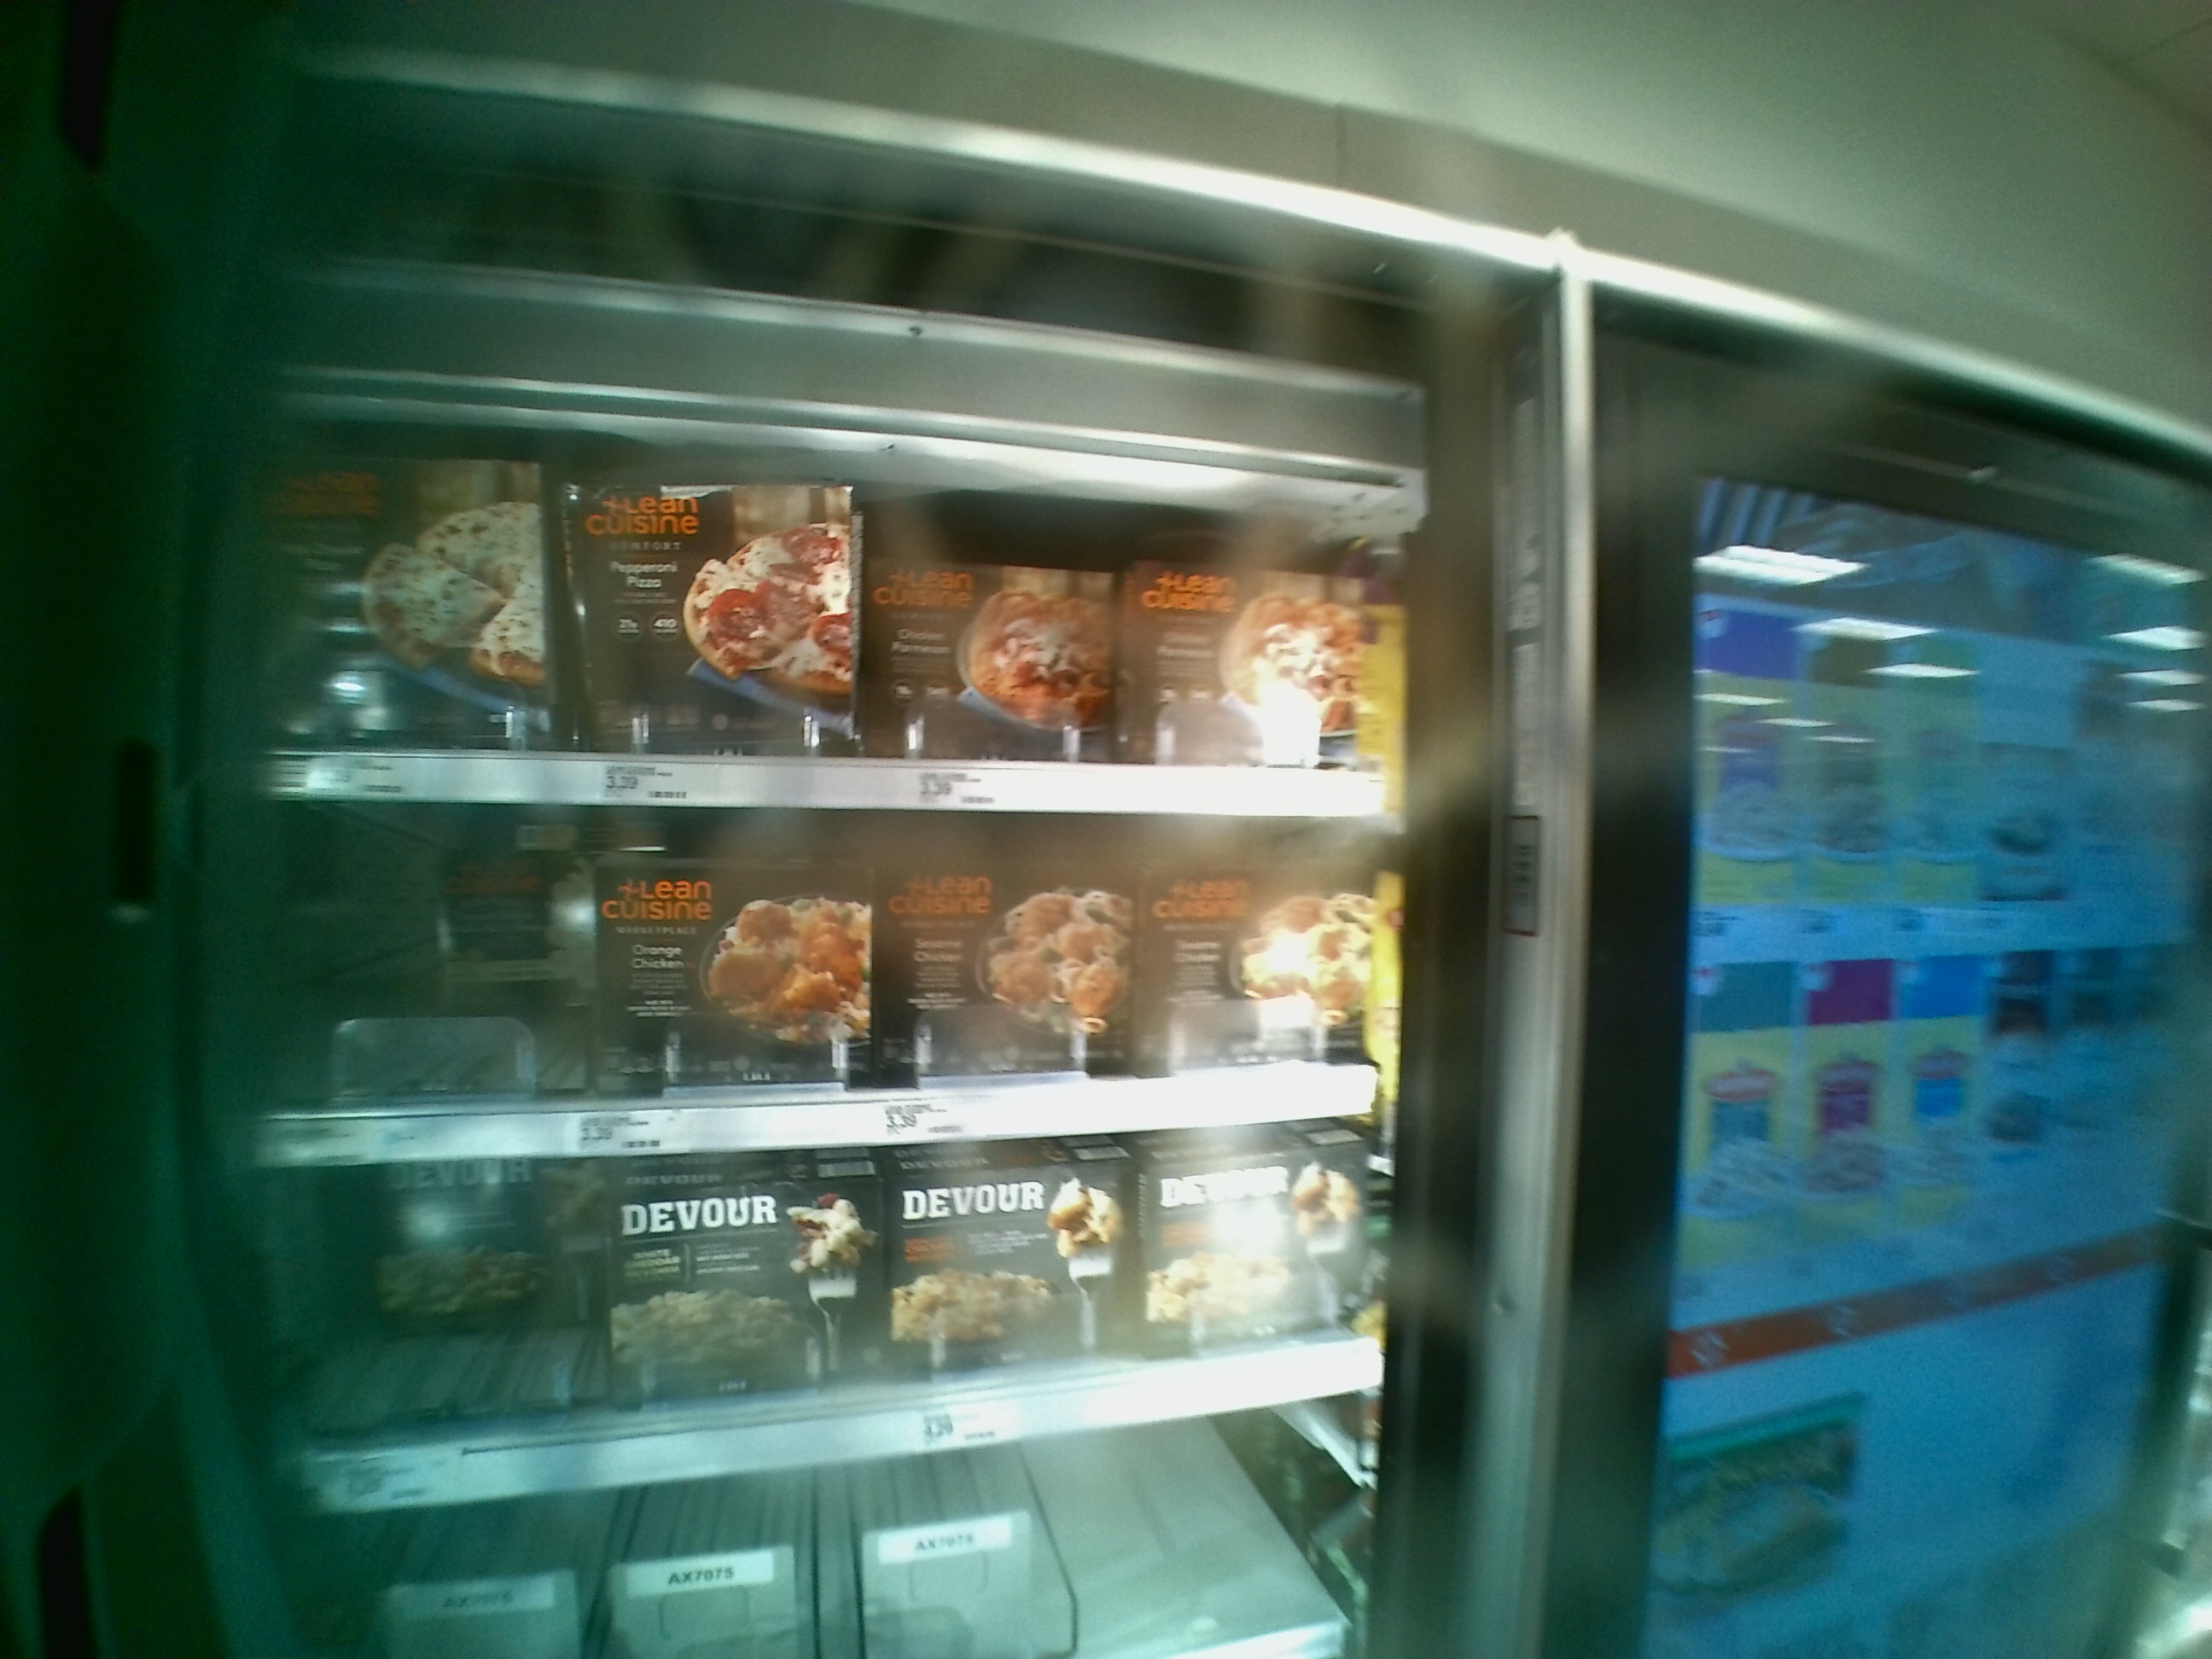shelf: (258, 352, 1404, 814), (239, 798, 1400, 1161)
